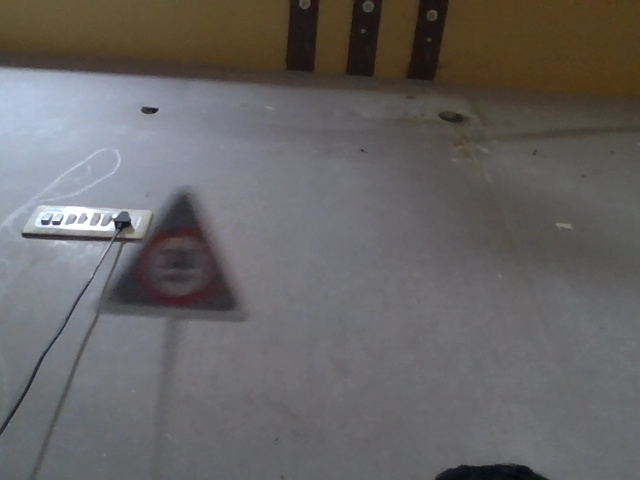speedlimit: (59, 163, 263, 348)
